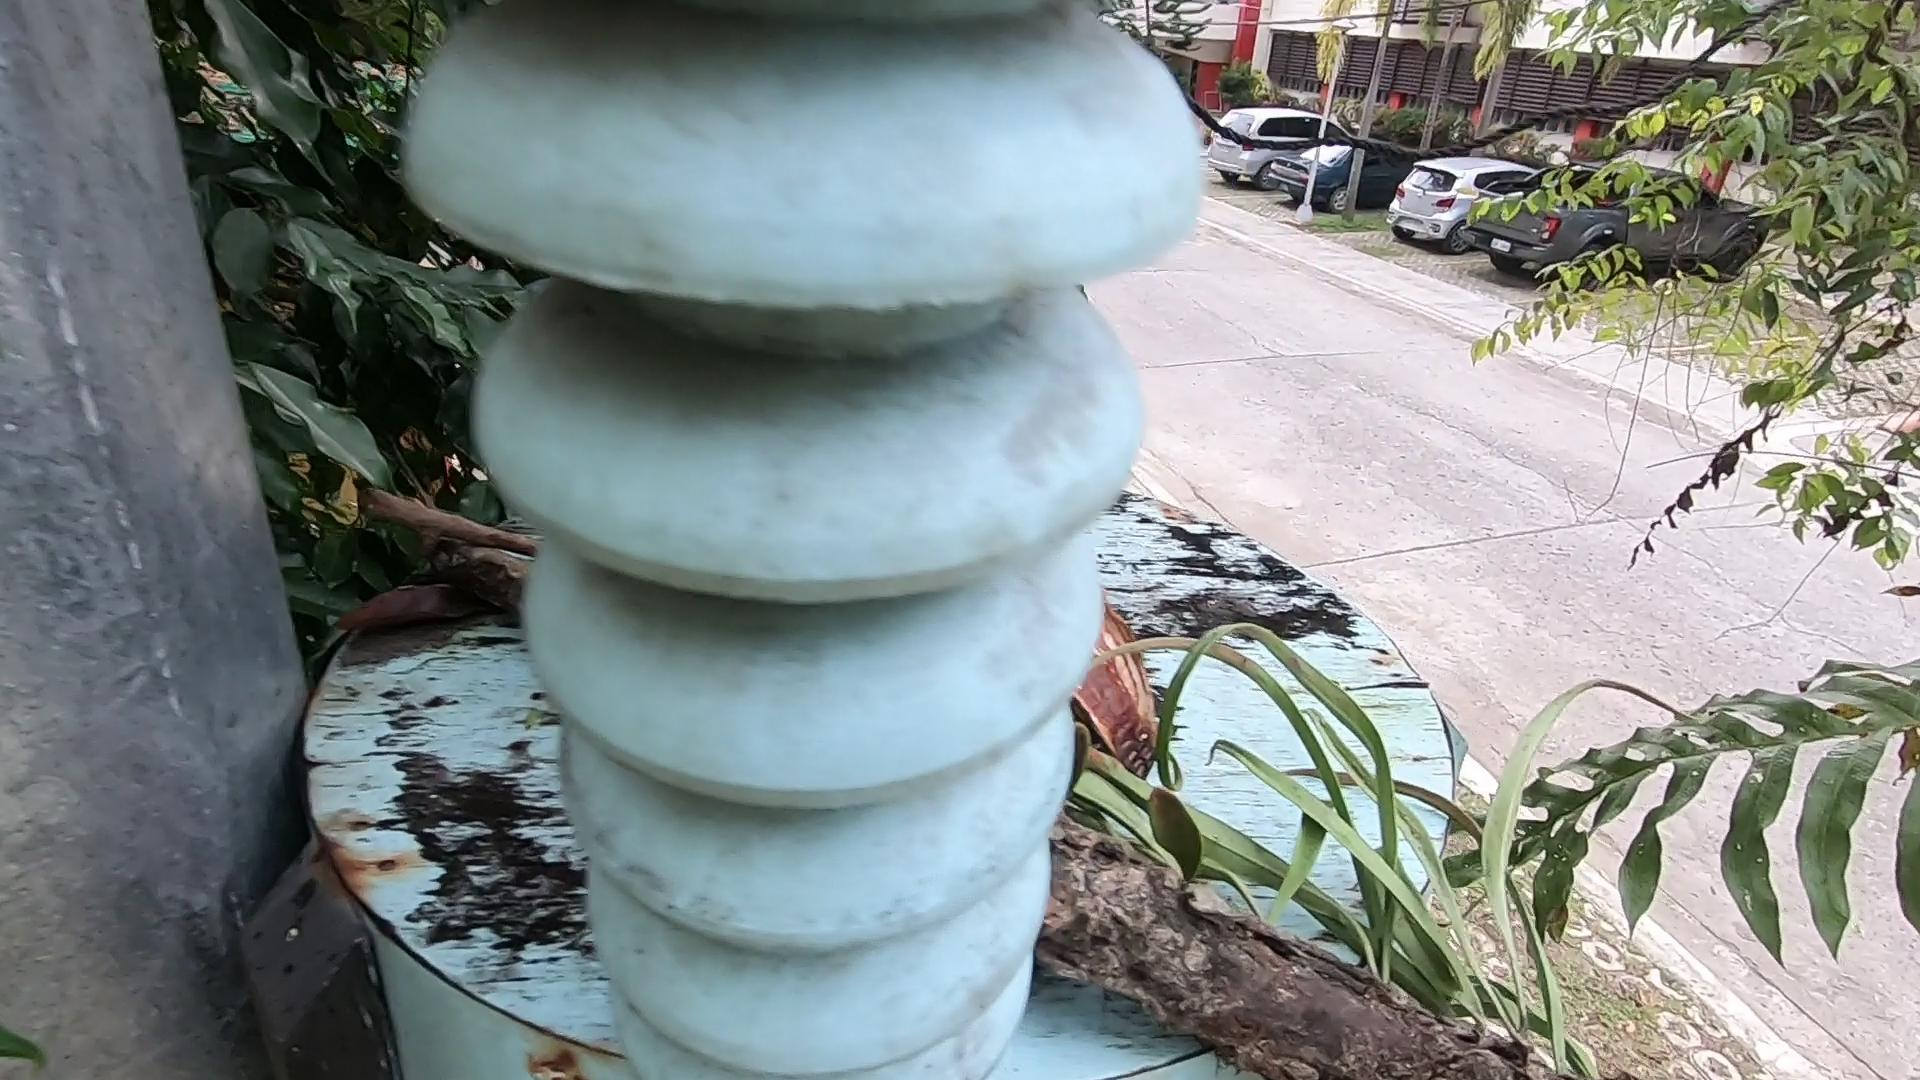branch with leaves: (345, 462, 1745, 1080)
leaf: (345, 574, 497, 644)
mahogany fruit: (919, 512, 1422, 774)
tree branch: (364, 498, 541, 574)
